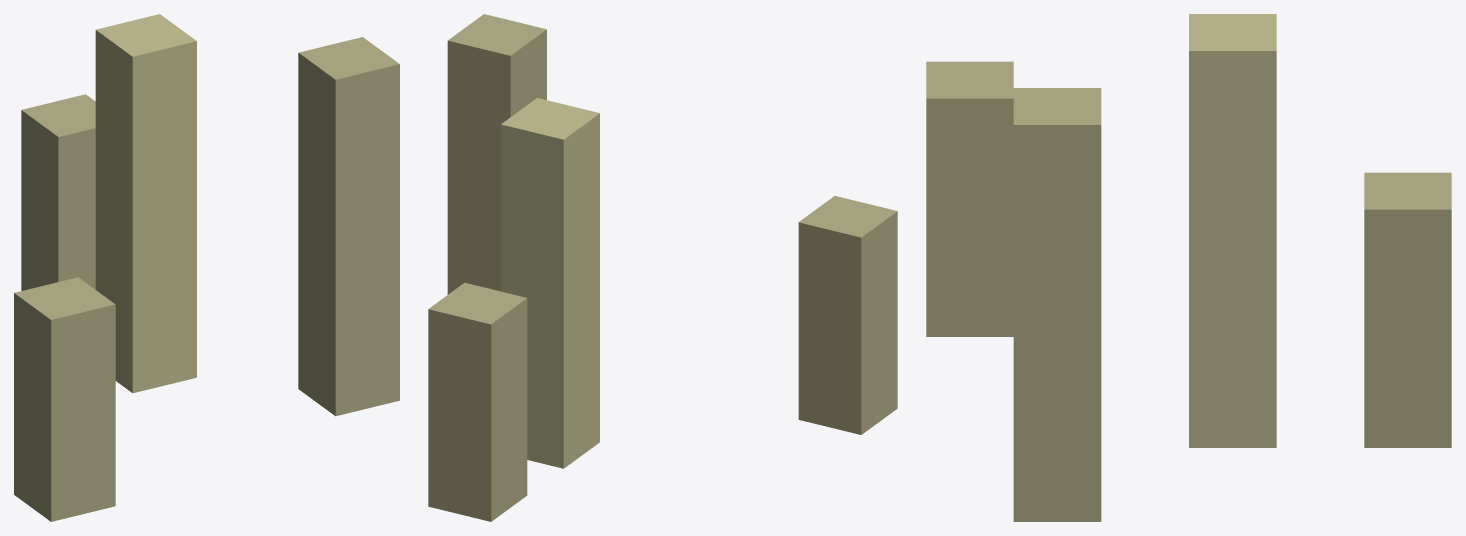
Rendered from barron_03.glb.
The picture shows the model from 3 angles, left to right: view 1: azimuth 30°, elevation 25°; view 2: azimuth 150°, elevation 25°; view 3: azimuth 270°, elevation 25°; orthographic projection. The views are drawn at different scales.
Parts seen in each view (by area): view 1: barron_03; view 2: barron_03; view 3: barron_03.
Boxes of the visible parts, x1=… form: barron_03: x1=14, y1=14, x2=399, y2=521; barron_03: x1=428, y1=14, x2=897, y2=521; barron_03: x1=926, y1=14, x2=1451, y2=521.
Bounding box in the file's own units: 0.6 × 0.5 × 0.6.
